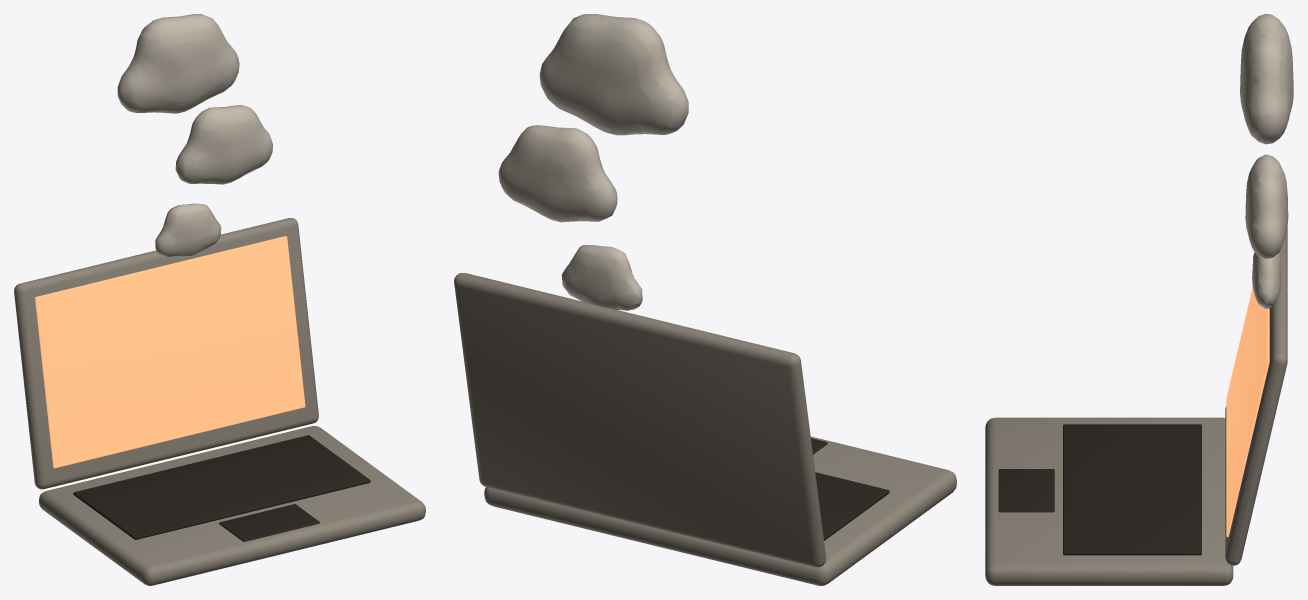
File: laptop.glb
The picture shows the model from 3 angles, left to right: view 1: azimuth 30°, elevation 25°; view 2: azimuth 150°, elevation 25°; view 3: azimuth 270°, elevation 25°; orthographic projection. The views are drawn at different scales.
Parts seen in each view (by area): view 1: Screen, Laptop_Base, Asap, Laptop_Lid, Keyboard, Touchpad; view 2: Laptop_Lid, Asap, Laptop_Base, Keyboard; view 3: Laptop_Base, Keyboard, Asap, Laptop_Lid, Screen, Touchpad.
Boxes of the visible parts, x1,y1,x2,y2 form: Screen: (35, 236, 305, 468); Laptop_Base: (39, 426, 425, 585); Asap: (117, 14, 272, 257); Laptop_Lid: (14, 218, 318, 489); Keyboard: (73, 435, 370, 539); Touchpad: (219, 504, 319, 541); Laptop_Lid: (454, 273, 826, 567); Asap: (498, 14, 688, 310); Laptop_Base: (484, 436, 956, 585); Keyboard: (815, 472, 889, 540); Laptop_Base: (985, 417, 1233, 585); Keyboard: (1063, 424, 1201, 555); Asap: (1240, 14, 1293, 308); Laptop_Lid: (1225, 227, 1287, 565); Screen: (1226, 287, 1269, 537); Touchpad: (998, 469, 1054, 512).
Bounding box in the file's own units: 1.1 × 1.65 × 0.9321.
